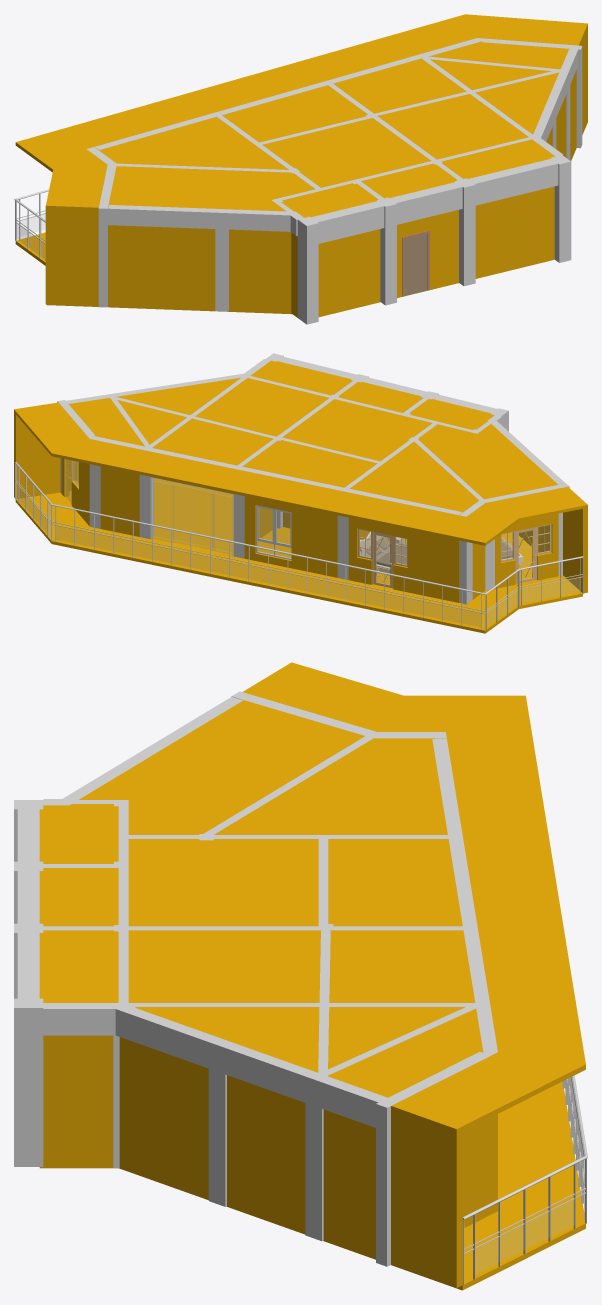
3 views of the same model, one above another, from view 1: azimuth 30°, elevation 25°; view 2: azimuth 150°, elevation 25°; view 3: azimuth 270°, elevation 25° (orthographic). The views are drawn at different scales.
Parts seen in each view (by area): view 1: product-497f5b8e-f364-4ebb-8fda-36d32b519f5f-body, product-497f5b8e-f364-4ebb-8fda-36d32b519cb3-body, product-497f5b8e-f364-4ebb-8fda-36d32b519cb5-body, product-497f5b8e-f364-4ebb-8fda-36d32b519f58-body, product-497f5b8e-f364-4ebb-8fda-36d32b519c22-body, product-497f5b8e-f364-4ebb-8fda-36d32b519c3c-body, product-497f5b8e-f364-4ebb-8fda-36d32b519cb4-body, product-497f5b8e-f364-4ebb-8fda-36d32b519ce3-body, product-497f5b8e-f364-4ebb-8fda-36d32b519c27-body, product-497f5b8e-f364-4ebb-8fda-36d32b519cc7-body, product-497f5b8e-f364-4ebb-8fda-36d32b519cff-body, product-497f5b8e-f364-4ebb-8fda-36d32b519cfd-body (+26 smaller); view 2: product-497f5b8e-f364-4ebb-8fda-36d32b519f5f-body, product-497f5b8e-f364-4ebb-8fda-36d32b519ca0-body, product-497f5b8e-f364-4ebb-8fda-36d32b519f4b-body, product-497f5b8e-f364-4ebb-8fda-36d32b519c26-body, product-497f5b8e-f364-4ebb-8fda-36d32b519f56-body, product-497f5b8e-f364-4ebb-8fda-36d32b519cb1-body, product-497f5b8e-f364-4ebb-8fda-36d32b519f5b-body, product-497f5b8e-f364-4ebb-8fda-36d32b519cb7-body, product-497f5b8e-f364-4ebb-8fda-36d32b519f58-body, product-497f5b8e-f364-4ebb-8fda-36d32b519f57-body, product-497f5b8e-f364-4ebb-8fda-36d32b519f54-body, product-497f5b8e-f364-4ebb-8fda-36d32b519c21-body (+23 smaller); view 3: product-497f5b8e-f364-4ebb-8fda-36d32b519f5f-body, product-497f5b8e-f364-4ebb-8fda-36d32b519ca0-body, product-497f5b8e-f364-4ebb-8fda-36d32b519c23-body, product-497f5b8e-f364-4ebb-8fda-36d32b519f5b-body, product-497f5b8e-f364-4ebb-8fda-36d32b519cb8-body, product-497f5b8e-f364-4ebb-8fda-36d32b519c3d-body, product-497f5b8e-f364-4ebb-8fda-36d32b519cba-body, product-497f5b8e-f364-4ebb-8fda-36d32b519f4b-body, product-497f5b8e-f364-4ebb-8fda-36d32b519c25-body, product-497f5b8e-f364-4ebb-8fda-36d32b519cbb-body, product-497f5b8e-f364-4ebb-8fda-36d32b519cbf-body, product-497f5b8e-f364-4ebb-8fda-36d32b519cdd-body (+23 smaller).
Part boxes in pixels (x1,y1,x2,y2): product-497f5b8e-f364-4ebb-8fda-36d32b519f5f-body: [15, 14, 581, 217]; product-497f5b8e-f364-4ebb-8fda-36d32b519cb3-body: [108, 225, 215, 310]; product-497f5b8e-f364-4ebb-8fda-36d32b519cb5-body: [475, 186, 554, 278]; product-497f5b8e-f364-4ebb-8fda-36d32b519f58-body: [45, 203, 99, 306]; product-497f5b8e-f364-4ebb-8fda-36d32b519c22-body: [229, 229, 291, 313]; product-497f5b8e-f364-4ebb-8fda-36d32b519c3c-body: [318, 229, 380, 316]; product-497f5b8e-f364-4ebb-8fda-36d32b519cb4-body: [397, 210, 458, 297]; product-497f5b8e-f364-4ebb-8fda-36d32b519ce3-body: [468, 158, 558, 205]; product-497f5b8e-f364-4ebb-8fda-36d32b519c27-body: [297, 216, 318, 324]; product-497f5b8e-f364-4ebb-8fda-36d32b519cc7-body: [108, 205, 215, 228]; product-497f5b8e-f364-4ebb-8fda-36d32b519cff-body: [311, 201, 384, 243]; product-497f5b8e-f364-4ebb-8fda-36d32b519cfd-body: [389, 182, 462, 224]; product-497f5b8e-f364-4ebb-8fda-36d32b519f5f-body: [16, 360, 582, 545]; product-497f5b8e-f364-4ebb-8fda-36d32b519ca0-body: [15, 478, 582, 633]; product-497f5b8e-f364-4ebb-8fda-36d32b519f4b-body: [15, 462, 583, 630]; product-497f5b8e-f364-4ebb-8fda-36d32b519c26-body: [348, 517, 459, 602]; product-497f5b8e-f364-4ebb-8fda-36d32b519f56-body: [150, 477, 233, 556]; product-497f5b8e-f364-4ebb-8fda-36d32b519cb1-body: [244, 496, 337, 577]; product-497f5b8e-f364-4ebb-8fda-36d32b519f5b-body: [14, 402, 60, 498]; product-497f5b8e-f364-4ebb-8fda-36d32b519cb7-body: [100, 466, 139, 536]; product-497f5b8e-f364-4ebb-8fda-36d32b519f58-body: [563, 486, 587, 593]; product-497f5b8e-f364-4ebb-8fda-36d32b519f57-body: [358, 528, 407, 588]; product-497f5b8e-f364-4ebb-8fda-36d32b519f54-body: [501, 524, 551, 583]; product-497f5b8e-f364-4ebb-8fda-36d32b519c21-body: [495, 513, 558, 588]; product-497f5b8e-f364-4ebb-8fda-36d32b519f5f-body: [39, 665, 585, 1130]; product-497f5b8e-f364-4ebb-8fda-36d32b519ca0-body: [39, 1081, 585, 1290]; product-497f5b8e-f364-4ebb-8fda-36d32b519c23-body: [119, 1037, 208, 1199]; product-497f5b8e-f364-4ebb-8fda-36d32b519f5b-body: [391, 1103, 462, 1288]; product-497f5b8e-f364-4ebb-8fda-36d32b519cb8-body: [227, 1075, 305, 1233]; product-497f5b8e-f364-4ebb-8fda-36d32b519c3d-body: [43, 1035, 113, 1166]; product-497f5b8e-f364-4ebb-8fda-36d32b519cba-body: [323, 1109, 375, 1258]; product-497f5b8e-f364-4ebb-8fda-36d32b519f4b-body: [463, 1075, 587, 1285]; product-497f5b8e-f364-4ebb-8fda-36d32b519c25-body: [14, 998, 43, 1166]; product-497f5b8e-f364-4ebb-8fda-36d32b519cbb-body: [463, 1114, 497, 1227]; product-497f5b8e-f364-4ebb-8fda-36d32b519cbf-body: [115, 1009, 217, 1068]; product-497f5b8e-f364-4ebb-8fda-36d32b519cdd-body: [208, 1037, 234, 1206].
Bounding box in the file's own units: 22.67 × 3.72 × 11.78.
